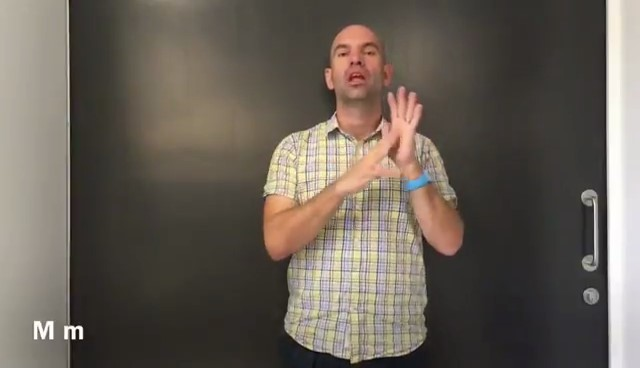M: (339, 84, 424, 194)
